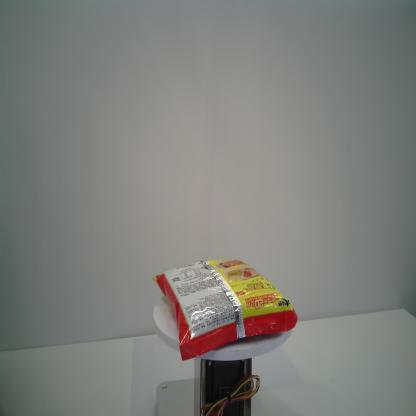Instant Noodles: (153, 257, 298, 362)
